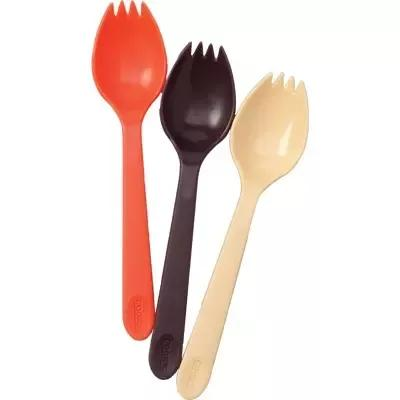Fork: (176, 72, 309, 400), (148, 41, 236, 380), (91, 0, 168, 341)
Spoon: (176, 72, 309, 400), (148, 41, 236, 380), (91, 0, 168, 341)
